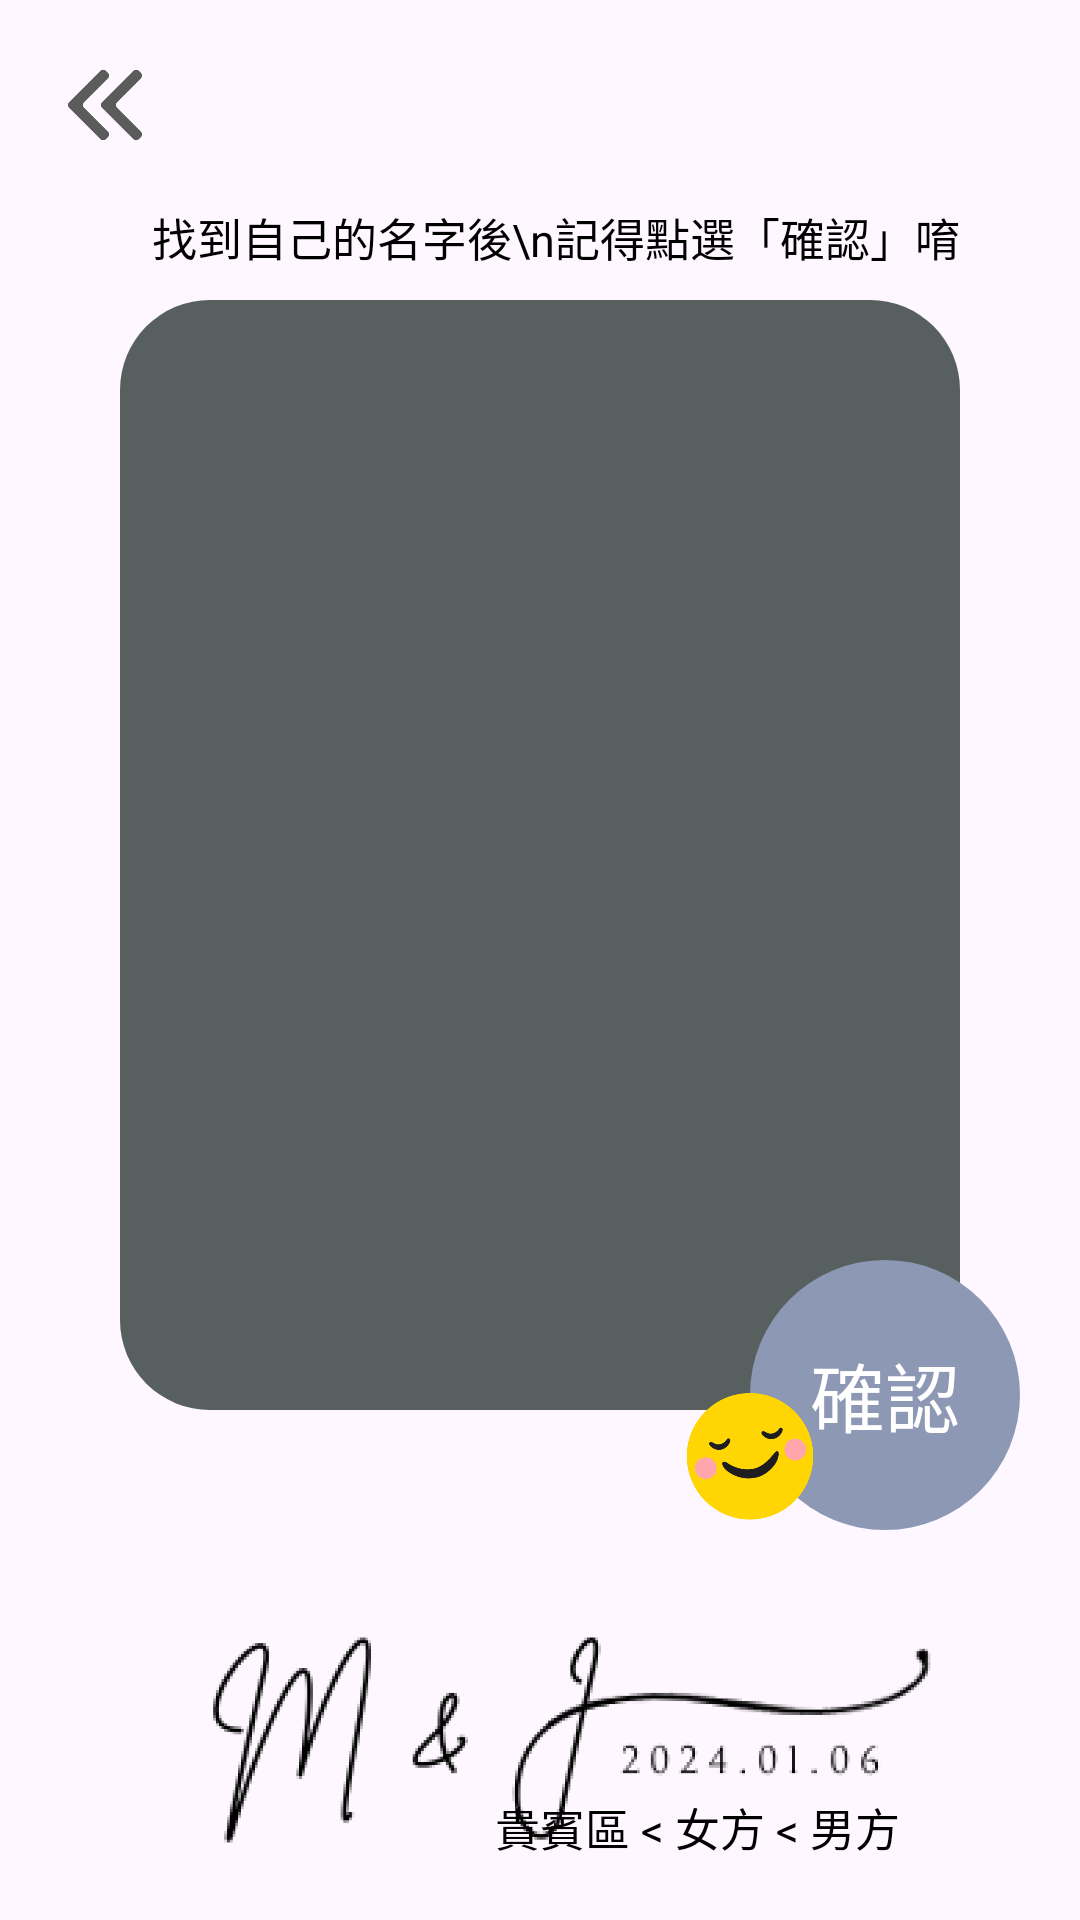

Icon click points for this 1080x1920 phone screenshot, format [x,y]:
back: [105,105]
